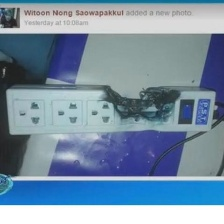three_eye_plug: (1, 81, 219, 137)
